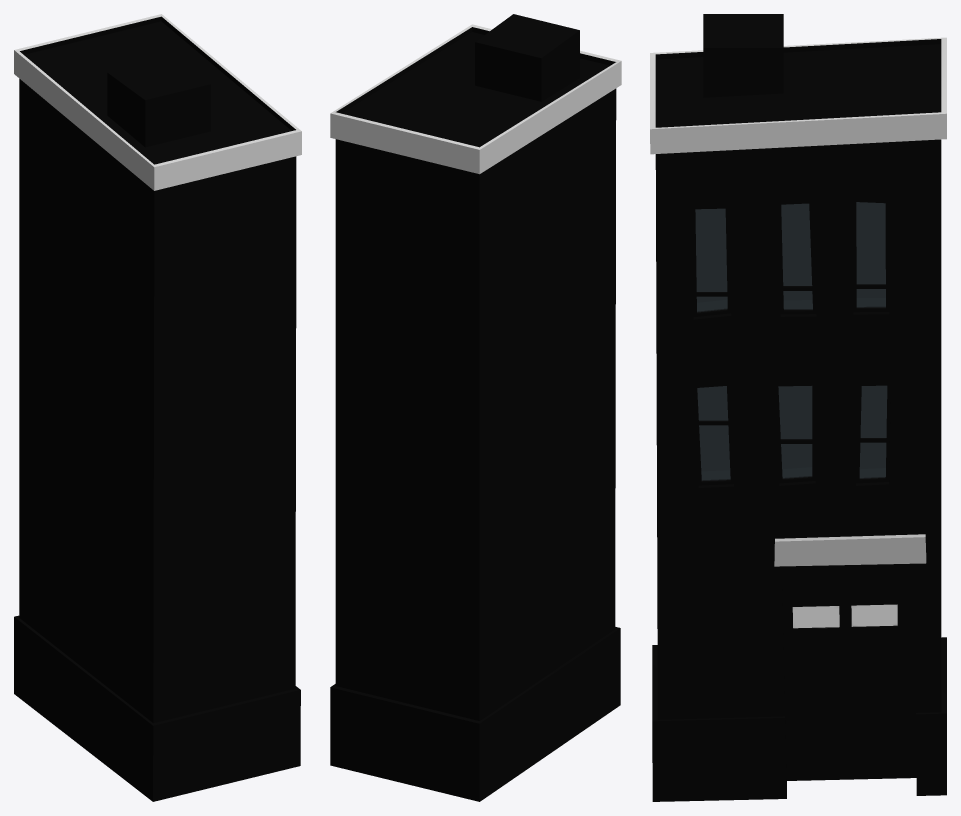
File: bina5.fbx
The picture shows the model from 3 angles, left to right: view 1: azimuth 30°, elevation 25°; view 2: azimuth 150°, elevation 25°; view 3: azimuth 270°, elevation 25°; orthographic projection. The views are drawn at different scales.
Parts seen in each view (by area): view 1: Cube.003; view 2: Cube.003; view 3: Cube.003.
Part boxes in pixels (x1,y1,x2,y2): Cube.003: (14, 14, 301, 801); Cube.003: (330, 14, 621, 801); Cube.003: (650, 14, 946, 801).
Size of the model in its own units: 597 by 2579 by 963.
8 materials, 5 textured.
